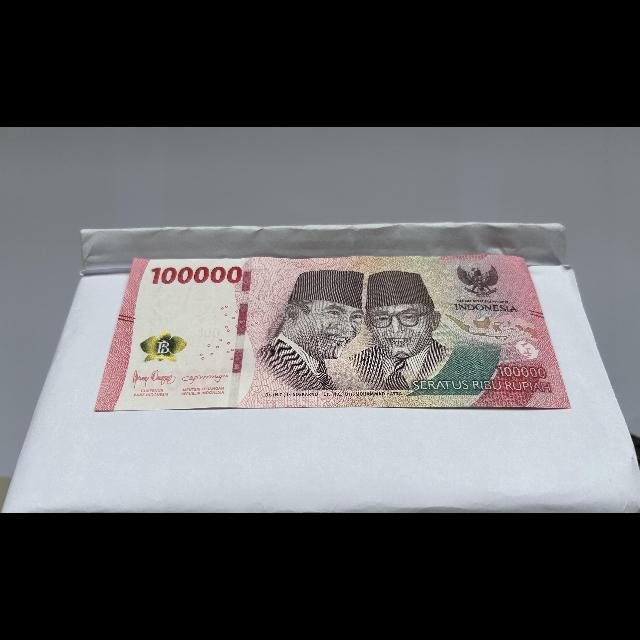Asli-100k: (92, 252, 576, 412)
Tinta-Asli-100k: (134, 329, 191, 363)
